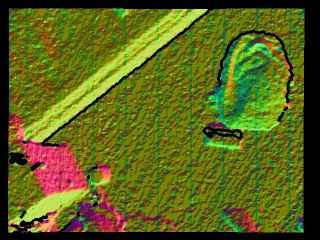station: (203, 122, 244, 151)
